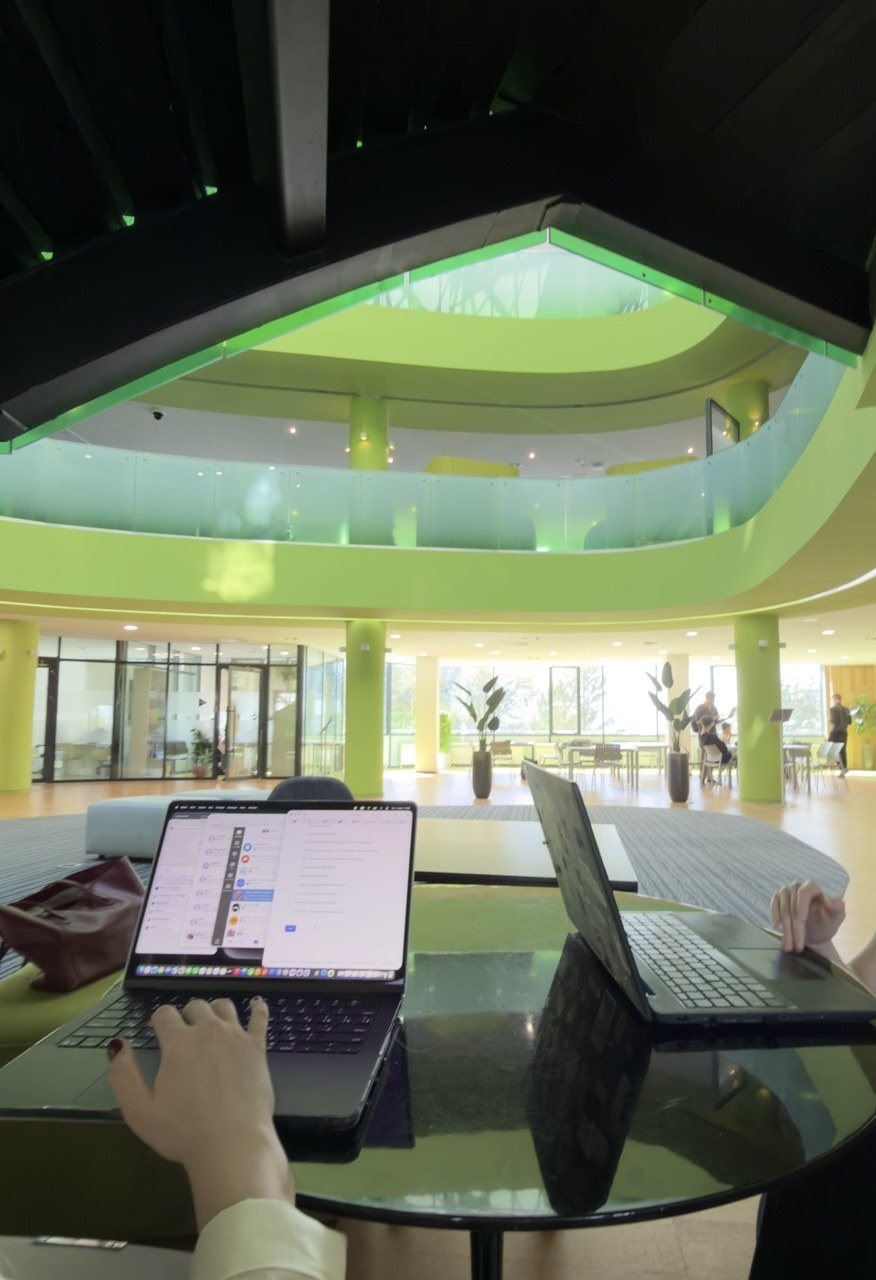cell phone: (33, 1236, 130, 1250)
laptop: (1, 798, 418, 1134), (520, 757, 876, 1031)
